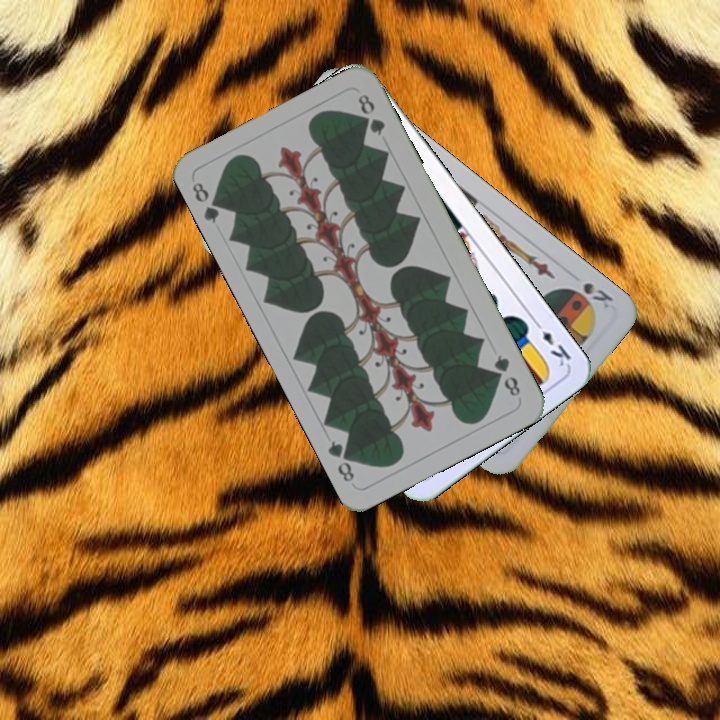EK: (529, 316, 574, 369)
G8: (187, 178, 227, 226), (489, 350, 523, 399)
SK: (579, 278, 616, 311)
